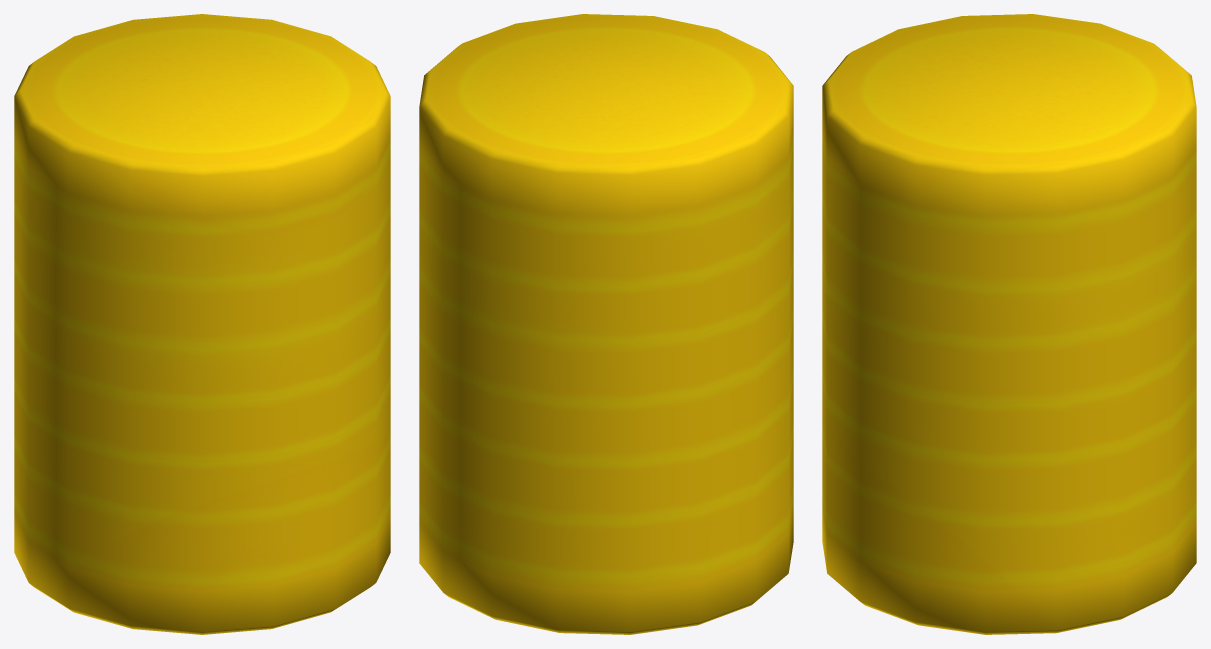
File: coin3.fbx
The picture shows the model from 3 angles, left to right: view 1: azimuth 30°, elevation 25°; view 2: azimuth 150°, elevation 25°; view 3: azimuth 270°, elevation 25°; orthographic projection.
Visible parts, largest first — view 1: coin3; view 2: coin3; view 3: coin3.
Boxes of the visible parts, x1,y1,x2,y2 form: coin3: [14, 14, 390, 634]; coin3: [419, 14, 793, 634]; coin3: [822, 14, 1196, 634].
Bounding box in the file's own units: 6938 × 9586 × 6939.
1 material, 1 textured.
